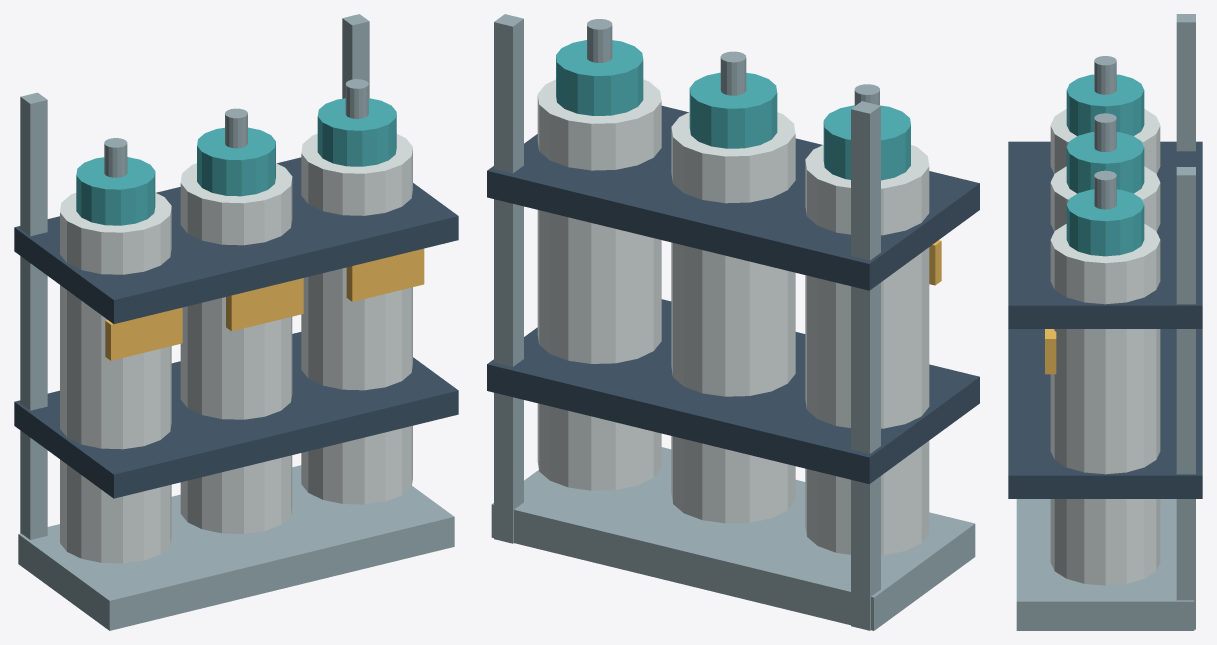
Rendered from orbital-field-station-three-cylinder-oxygen-rack__150.glb.
3 renders of one model, left to right at view 1: azimuth 30°, elevation 25°; view 2: azimuth 150°, elevation 25°; view 3: azimuth 270°, elevation 25°, orthographic. The views are drawn at different scales.
Visible parts, largest first — view 1: shell, dark, metal, accent, warning; view 2: shell, metal, dark, accent; view 3: shell, dark, metal, accent, warning.
Part boxes in pixels (<box>): shell: <box>60,134,412,563</box>; dark: <box>14,157,458,498</box>; metal: <box>18,14,454,630</box>; accent: <box>76,98,396,225</box>; warning: <box>105,248,424,360</box>; shell: <box>537,79,929,555</box>; metal: <box>491,14,975,630</box>; dark: <box>487,105,979,484</box>; accent: <box>556,40,910,180</box>; shell: <box>1050,109,1160,585</box>; dark: <box>1008,141,1202,498</box>; metal: <box>1016,14,1195,630</box>; accent: <box>1066,74,1144,256</box>; warning: <box>1045,329,1056,374</box>.
Size of the model in its own units: 1.2 by 1.55 by 0.6.
